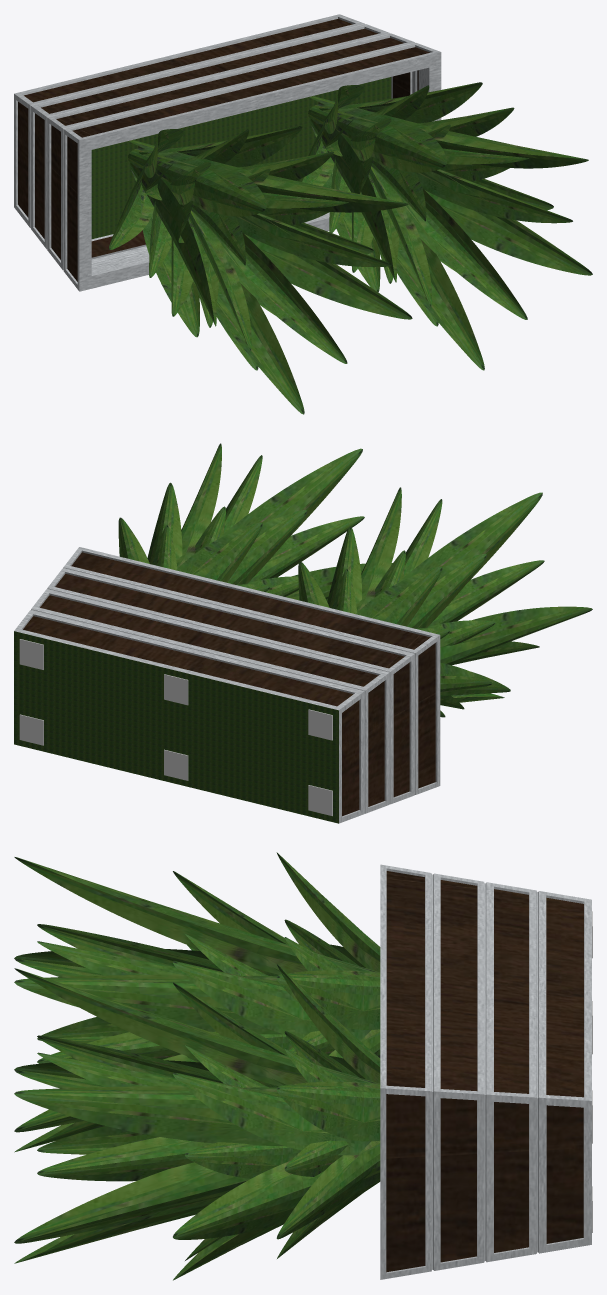
File: Cây lưỡi hổ.glb
3 renders of one model, top to bottom at view 1: azimuth 30°, elevation 25°; view 2: azimuth 150°, elevation 25°; view 3: azimuth 270°, elevation 25°, orthographic. The views are drawn at different scales.
Parts seen in each view (by area): view 1: Mesh7_Steel_Brushed_Stainless_0, Mesh7__Wood_Veneer_01_1_0, Mesh8__Color_002_4_0, Mesh20_Vegetation_Bark_PaloVerde_0, Mesh80_Vegetation_Bark_PaloVerde_0, Mesh12_Vegetation_Bark_PaloVerde_0, Mesh72_Vegetation_Bark_PaloVerde_0, Mesh76_Vegetation_Bark_PaloVerde_0, Mesh16_Vegetation_Bark_PaloVerde_0, Mesh10_Vegetation_Bark_PaloVerde_0, Mesh70_Vegetation_Bark_PaloVerde_0, Mesh86_Vegetation_Bark_PaloVerde_0 (+35 smaller); view 2: Mesh7__Color_002_4_0, Mesh7__Wood_Veneer_01_1_0, Mesh7_Steel_Brushed_Stainless_0, Mesh14_Vegetation_Bark_PaloVerde_0, Mesh12_Vegetation_Bark_PaloVerde_0, Mesh72_Vegetation_Bark_PaloVerde_0, Mesh32_Vegetation_Bark_PaloVerde_0, Mesh92_Vegetation_Bark_PaloVerde_0, Mesh82_Vegetation_Bark_PaloVerde_0, Mesh22_Vegetation_Bark_PaloVerde_0, Mesh110_Vegetation_Bark_PaloVerde_0, Mesh50_Vegetation_Bark_PaloVerde_0 (+24 smaller); view 3: Mesh7__Wood_Veneer_01_1_0, Mesh7_Steel_Brushed_Stainless_0, Mesh78_Vegetation_Bark_PaloVerde_0, Mesh72_Vegetation_Bark_PaloVerde_0, Mesh12_Vegetation_Bark_PaloVerde_0, Mesh76_Vegetation_Bark_PaloVerde_0, Mesh112_Vegetation_Bark_PaloVerde_0, Mesh18_Vegetation_Bark_PaloVerde_0, Mesh114_Vegetation_Bark_PaloVerde_0, Mesh54_Vegetation_Bark_PaloVerde_0, Mesh98_Vegetation_Bark_PaloVerde_0, Mesh86_Vegetation_Bark_PaloVerde_0 (+28 smaller).
Boxes of the visible parts, x1,y1,x2,y2 form: Mesh7_Steel_Brushed_Stainless_0: (14,14,441,291); Mesh7__Wood_Veneer_01_1_0: (18,19,429,281); Mesh8__Color_002_4_0: (91,77,391,238); Mesh20_Vegetation_Bark_PaloVerde_0: (216,232,347,363); Mesh80_Vegetation_Bark_PaloVerde_0: (397,189,527,319); Mesh12_Vegetation_Bark_PaloVerde_0: (128,148,266,216); Mesh72_Vegetation_Bark_PaloVerde_0: (308,104,446,172); Mesh76_Vegetation_Bark_PaloVerde_0: (425,172,592,275); Mesh16_Vegetation_Bark_PaloVerde_0: (244,216,412,319); Mesh10_Vegetation_Bark_PaloVerde_0: (131,169,304,414); Mesh70_Vegetation_Bark_PaloVerde_0: (311,125,484,370); Mesh86_Vegetation_Bark_PaloVerde_0: (416,169,572,223); Mesh7__Color_002_4_0: (14,631,338,823); Mesh7__Wood_Veneer_01_1_0: (23,552,435,816); Mesh7_Steel_Brushed_Stainless_0: (14,547,440,823); Mesh14_Vegetation_Bark_PaloVerde_0: (440,606,592,664); Mesh12_Vegetation_Bark_PaloVerde_0: (397,492,542,583); Mesh72_Vegetation_Bark_PaloVerde_0: (217,448,362,539); Mesh32_Vegetation_Bark_PaloVerde_0: (356,566,442,626); Mesh92_Vegetation_Bark_PaloVerde_0: (176,522,262,582); Mesh82_Vegetation_Bark_PaloVerde_0: (248,516,364,582); Mesh22_Vegetation_Bark_PaloVerde_0: (428,560,544,626); Mesh110_Vegetation_Bark_PaloVerde_0: (227,510,307,584); Mesh50_Vegetation_Bark_PaloVerde_0: (407,554,486,628); Mesh7__Wood_Veneer_01_1_0: (386,871,583,1272); Mesh7_Steel_Brushed_Stainless_0: (380,864,591,1279); Mesh78_Vegetation_Bark_PaloVerde_0: (14,1086,283,1145); Mesh72_Vegetation_Bark_PaloVerde_0: (14,968,379,1086); Mesh12_Vegetation_Bark_PaloVerde_0: (14,857,380,974); Mesh76_Vegetation_Bark_PaloVerde_0: (14,1162,249,1243); Mesh112_Vegetation_Bark_PaloVerde_0: (173,1161,380,1239); Mesh18_Vegetation_Bark_PaloVerde_0: (14,974,282,1034); Mesh114_Vegetation_Bark_PaloVerde_0: (173,1073,370,1155); Mesh54_Vegetation_Bark_PaloVerde_0: (172,961,370,1040); Mesh98_Vegetation_Bark_PaloVerde_0: (276,1081,380,1141); Mesh86_Vegetation_Bark_PaloVerde_0: (37,1137,213,1181).
Bounding box in the file's own units: 2.22 × 1.17 × 2.17.
5 materials, 4 textured.
